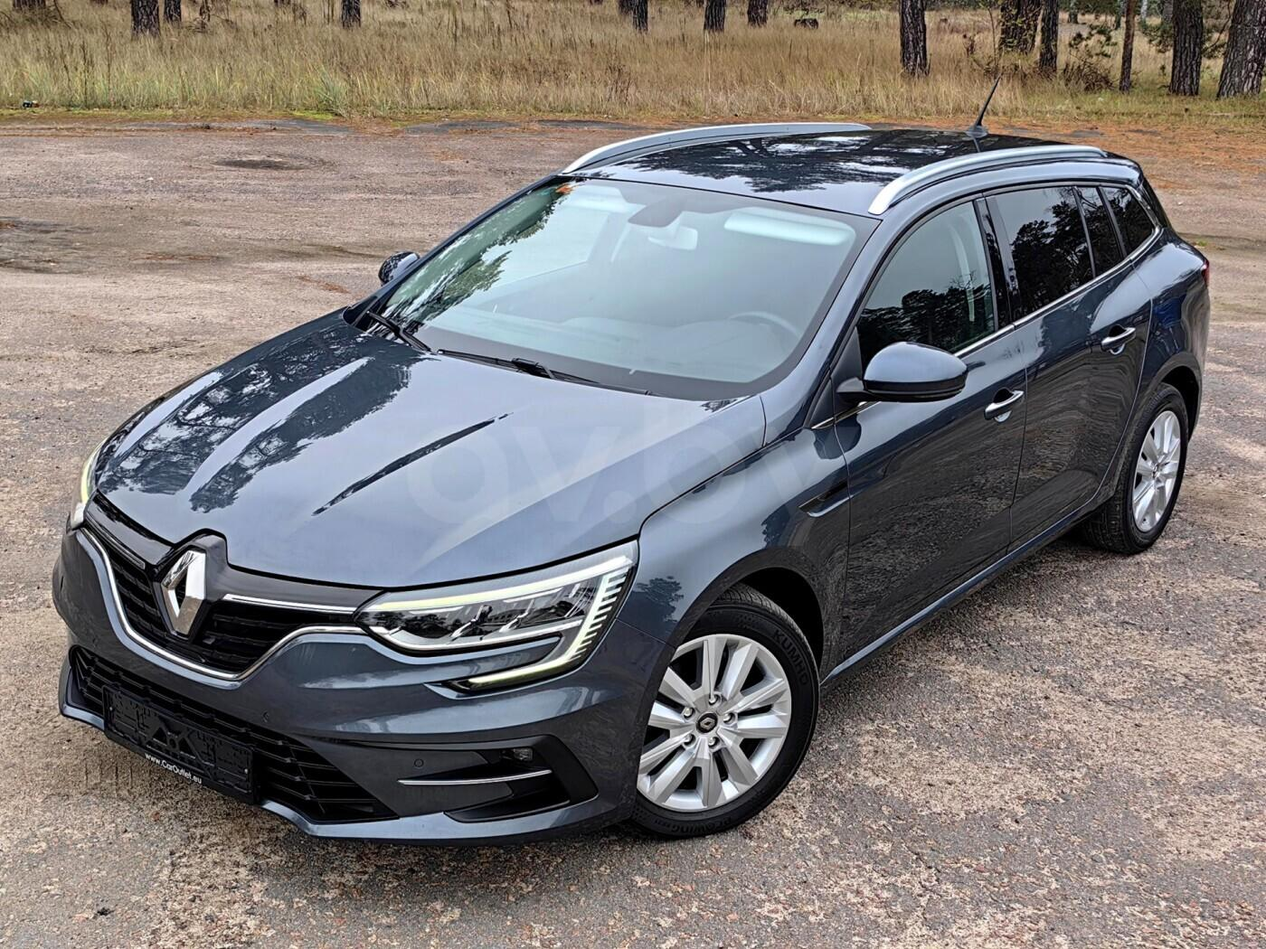Megane_2020: (54, 117, 1209, 859)
